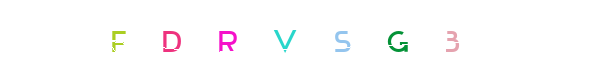3: (357, 0, 437, 80)
D: (162, 0, 242, 80)
F: (76, 0, 156, 80)
G: (302, 0, 382, 80)
R: (253, 0, 333, 80)
S: (299, 0, 379, 80)
V: (263, 0, 343, 80)
